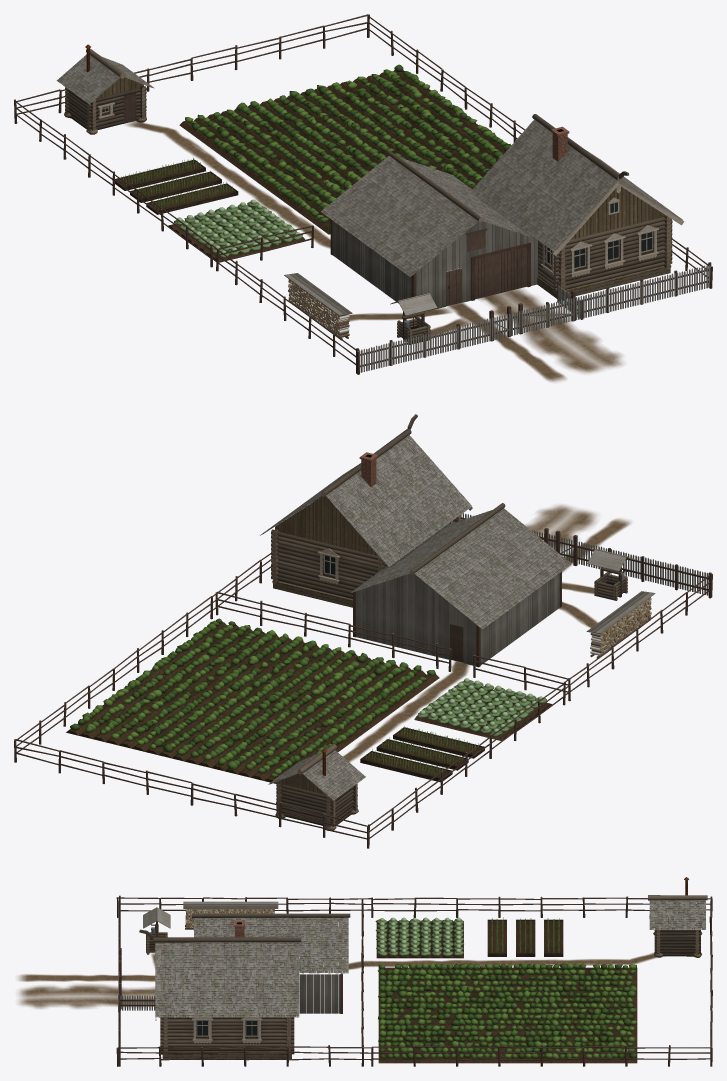
Rendered from yard_middle_mirror.glb.
3 renders of one model, top to bottom at view 1: azimuth 30°, elevation 25°; view 2: azimuth 150°, elevation 25°; view 3: azimuth 270°, elevation 25°, orthographic. The views are drawn at different scales.
Parts seen in each view (by area): view 1: yard_middle_mirror; view 2: yard_middle_mirror; view 3: yard_middle_mirror.
Boxes of the visible parts, x1,y1,x2,y2 form: yard_middle_mirror: (14, 14, 712, 381); yard_middle_mirror: (14, 414, 712, 848); yard_middle_mirror: (18, 877, 712, 1066).
Bounding box in the file's own units: 20.19 × 6.84 × 39.72.
45 materials, 30 textured.
